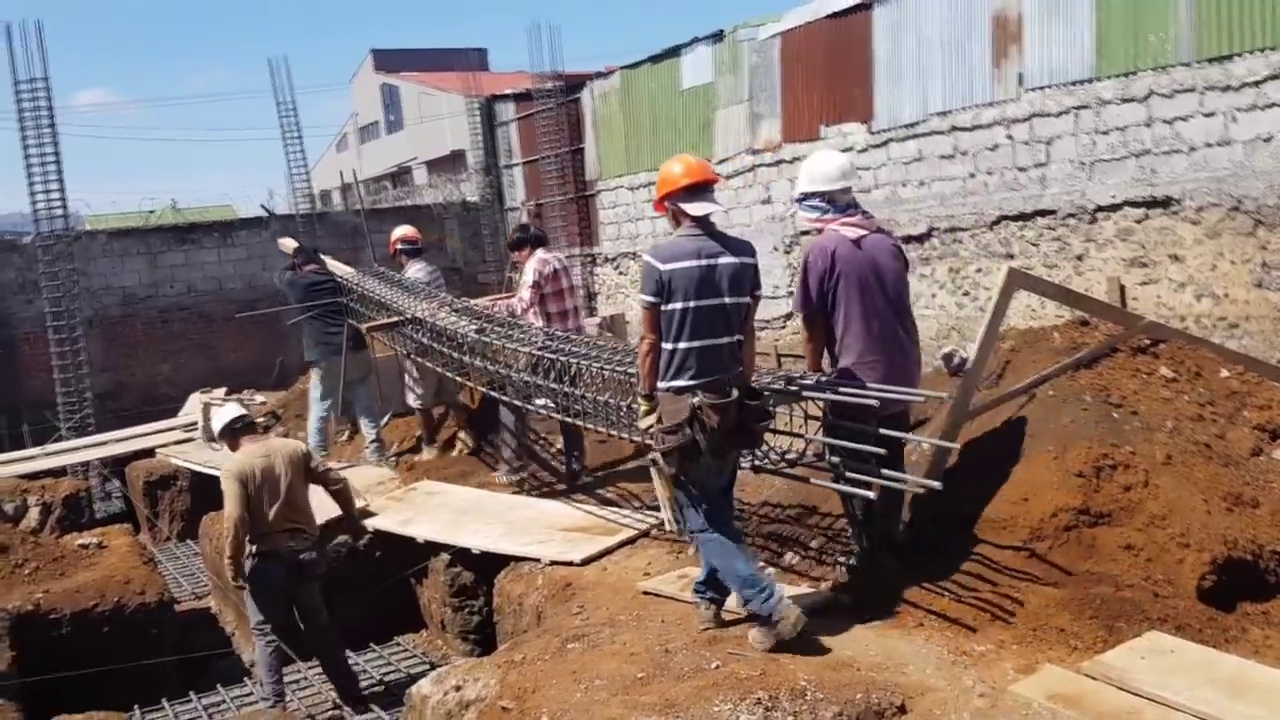helmet: (651, 151, 719, 213), (792, 146, 860, 200), (205, 402, 250, 442), (388, 222, 425, 255)
helmet-off: (502, 218, 545, 269), (290, 240, 325, 279)
helmet-on: (791, 144, 871, 236), (651, 151, 725, 233), (198, 407, 253, 459), (388, 221, 424, 270)
person: (643, 132, 781, 658), (795, 136, 929, 622), (192, 398, 375, 695), (500, 217, 598, 489), (281, 242, 383, 465), (381, 221, 465, 483)
